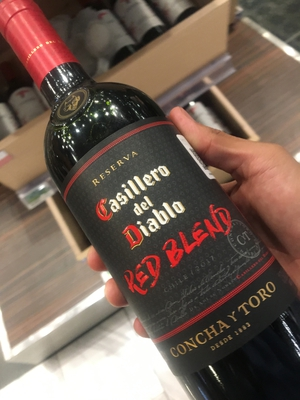casillero del diablo red blend: (23, 27, 299, 390)
